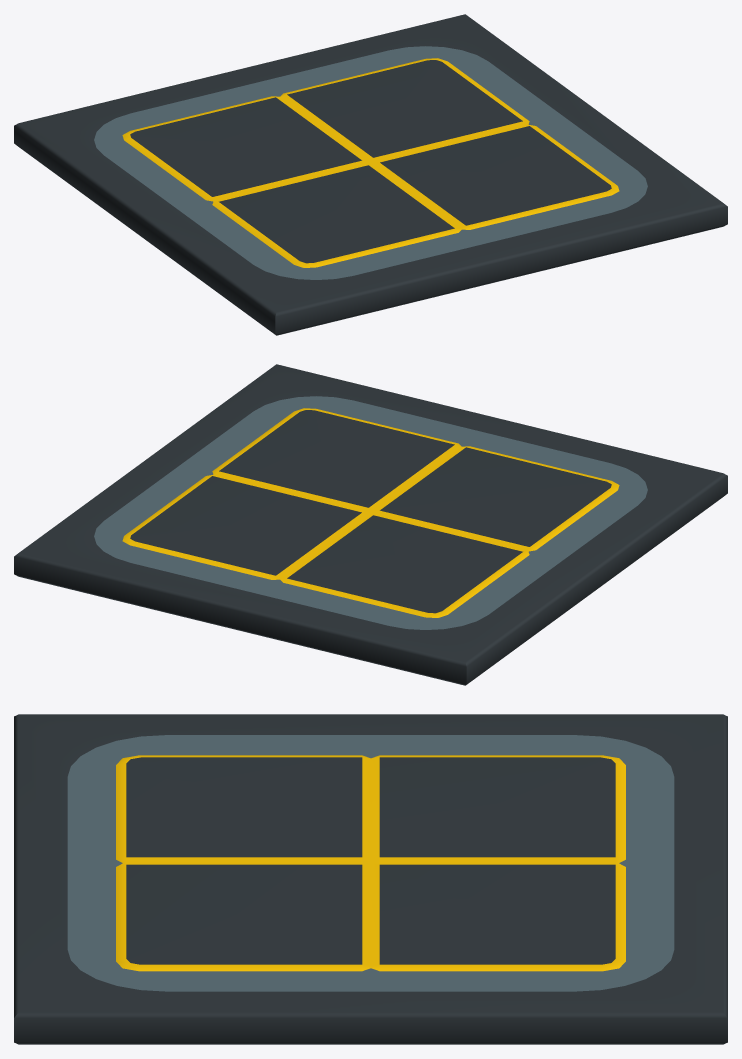
The model's file is Platform_011.glb.
3 views of the same model, one above another, from view 1: azimuth 30°, elevation 25°; view 2: azimuth 150°, elevation 25°; view 3: azimuth 270°, elevation 25° (orthographic). The views are drawn at different scales.
Parts seen in each view (by area): view 1: Platform_011; view 2: Platform_011; view 3: Platform_011.
Part boxes in pixels (x1,y1,x2,y2): Platform_011: (14,14,727,335); Platform_011: (14,364,727,685); Platform_011: (14,714,727,1044).
Bounding box in the file's own units: 4 × 0.2269 × 4.
Materials: 1 (1 with a texture image).
